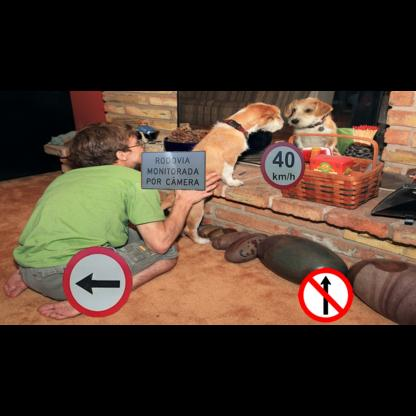I-E: (141, 150, 206, 191)
R-19: (260, 141, 306, 190)
R-24a: (62, 246, 133, 317)
R-3: (298, 268, 353, 322)
